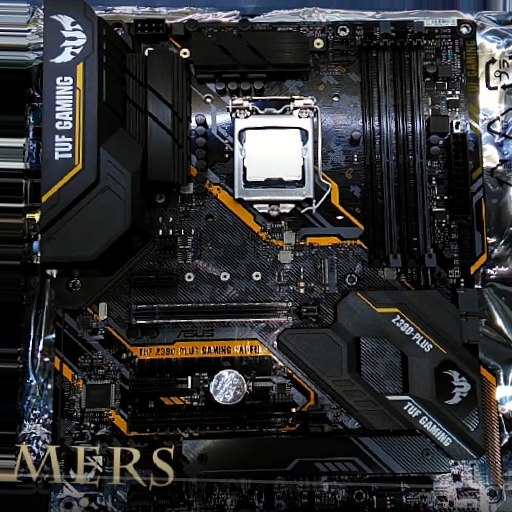CPU: (229, 97, 314, 216)
GPU: (129, 403, 331, 432), (127, 299, 322, 327)
MOTHERBOARD: (51, 20, 478, 480)
RAM: (359, 23, 437, 270)
SSD: (321, 257, 339, 297)
